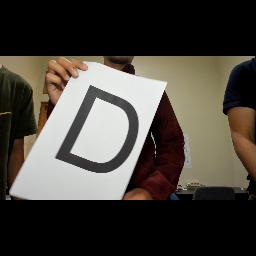d: (52, 80, 146, 182)
